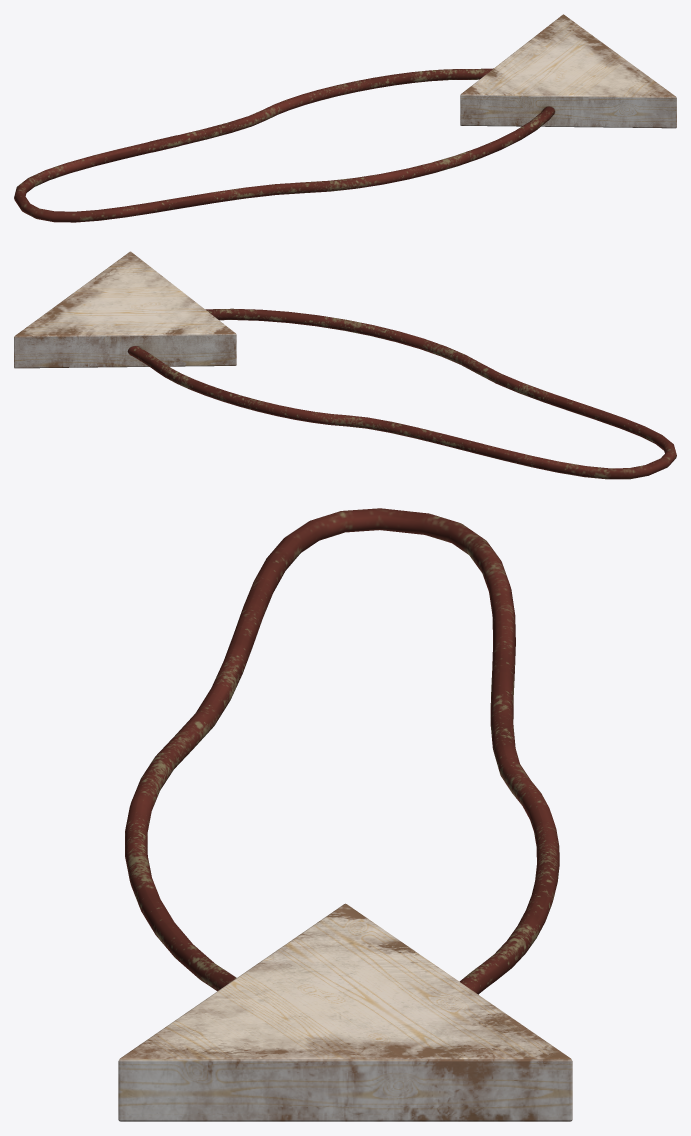
File: talisman triangle.fbx
3 views of the same model, one above another, from view 1: azimuth 30°, elevation 25°; view 2: azimuth 150°, elevation 25°; view 3: azimuth 270°, elevation 25° (orthographic). The views are drawn at different scales.
Visible parts, largest first — view 1: talisman triangle; view 2: talisman triangle; view 3: talisman triangle.
Boxes of the visible parts, x1=… form: talisman triangle: x1=14, y1=14, x2=676, y2=222; talisman triangle: x1=14, y1=251, x2=676, y2=479; talisman triangle: x1=118, y1=508, x2=572, y2=1121.
Size of the model in its own units: 63.79 by 3.31 by 21.24.
Materials: 1 (1 with a texture image).
